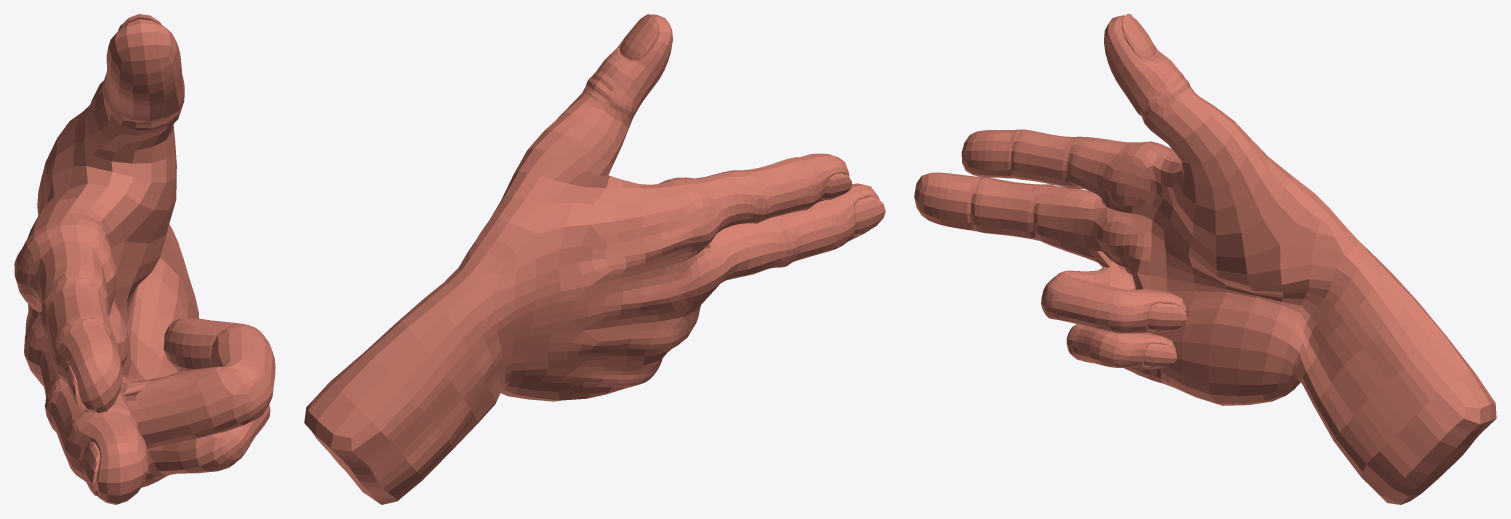
The model's file is kha.glb.
The picture shows the model from 3 angles, left to right: view 1: azimuth 30°, elevation 25°; view 2: azimuth 150°, elevation 25°; view 3: azimuth 270°, elevation 25°; orthographic projection. The views are drawn at different scales.
Visible parts, largest first — view 1: ZBrushPolyMesh3D; view 2: ZBrushPolyMesh3D; view 3: ZBrushPolyMesh3D.
Part boxes in pixels (x1,y1,x2,y2): ZBrushPolyMesh3D: (14, 14, 275, 504); ZBrushPolyMesh3D: (304, 14, 885, 504); ZBrushPolyMesh3D: (914, 14, 1496, 504).
Bounding box in the file's own units: 2.89 × 3.59 × 4.54.
